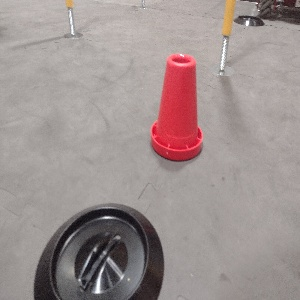Red_1: (148, 51, 205, 163)
